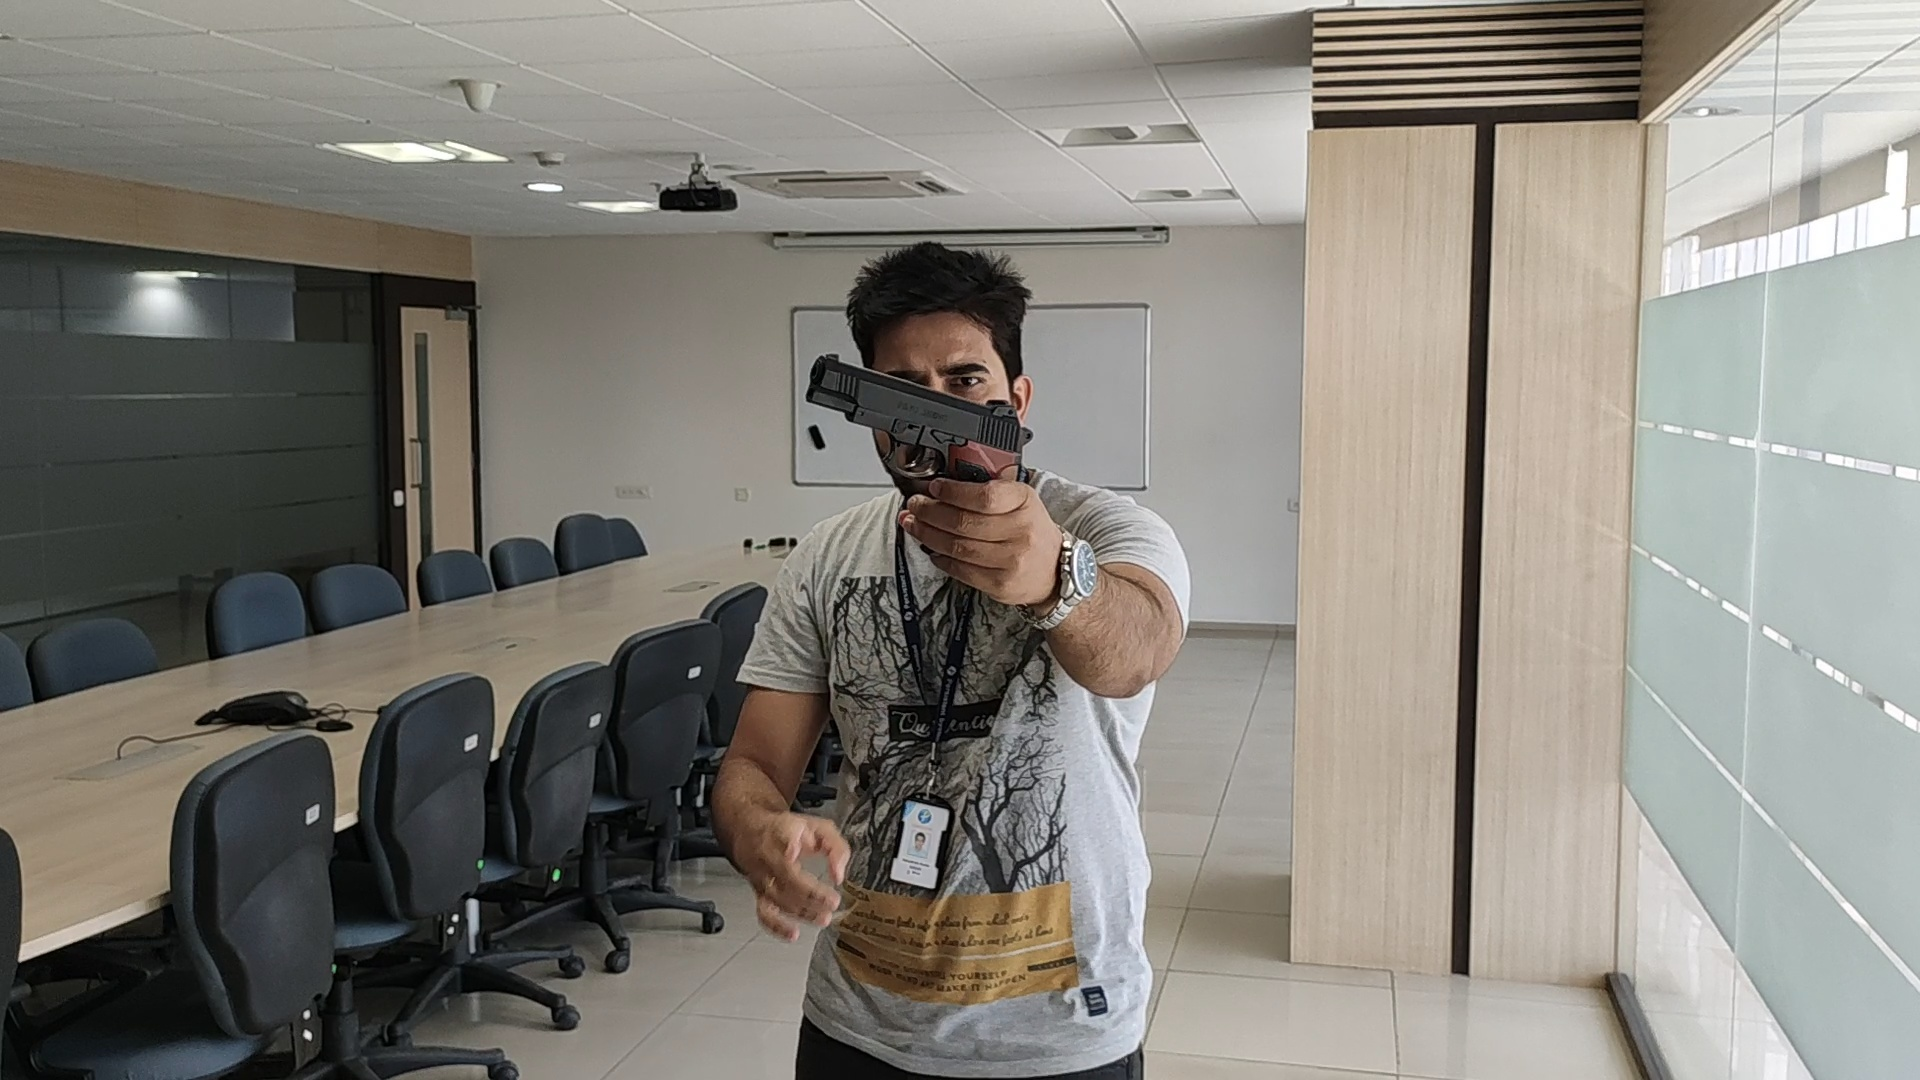gun: (807, 353, 1031, 480)
